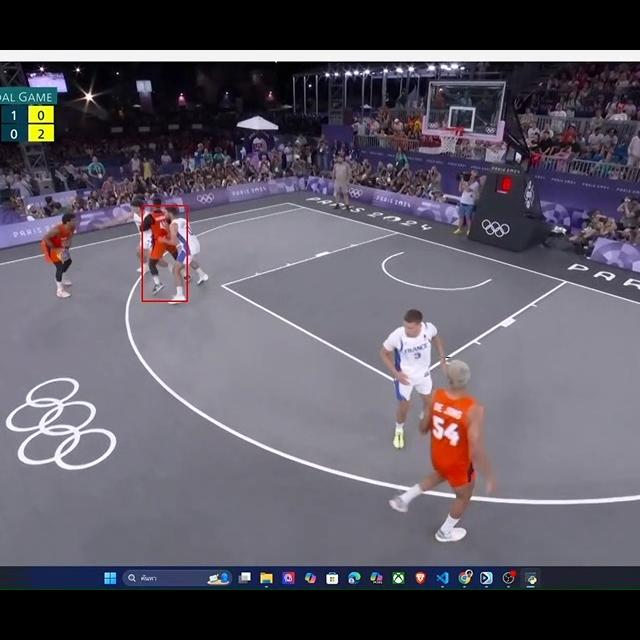basketball: (57, 250, 70, 262)
hoop: (438, 126, 459, 154)
